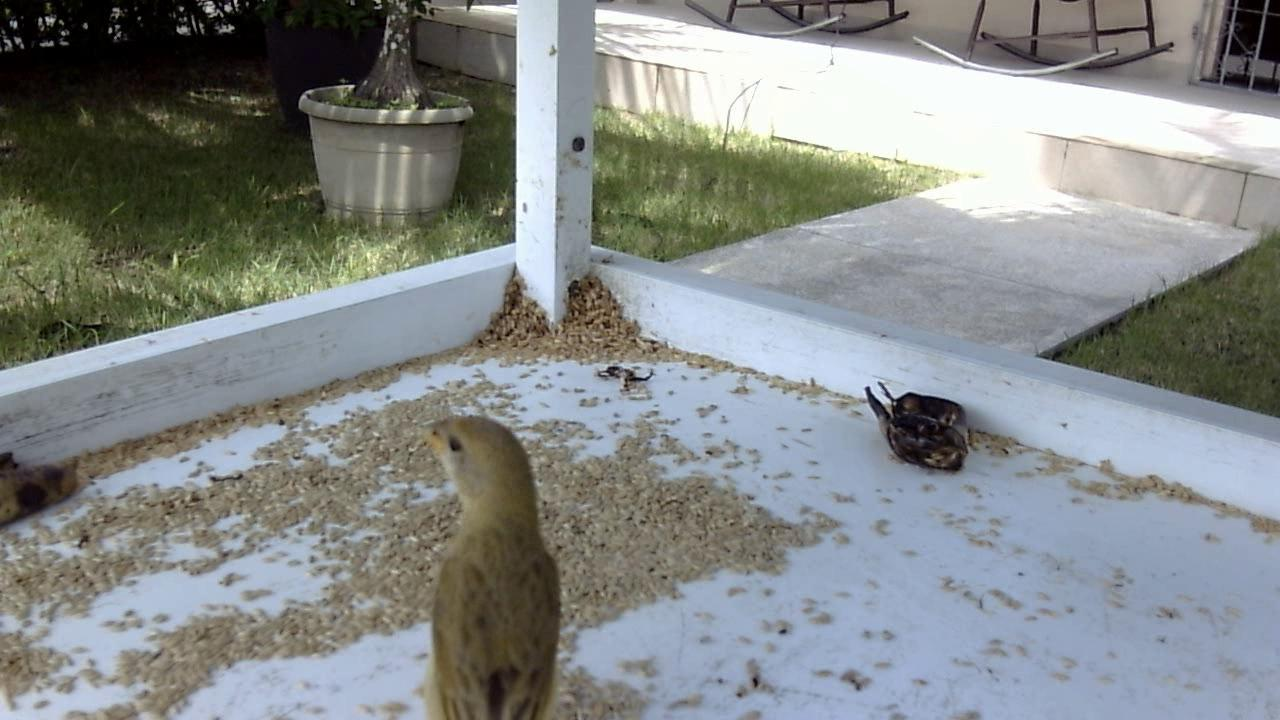canario_do_amazonas: (409, 415, 565, 713)
